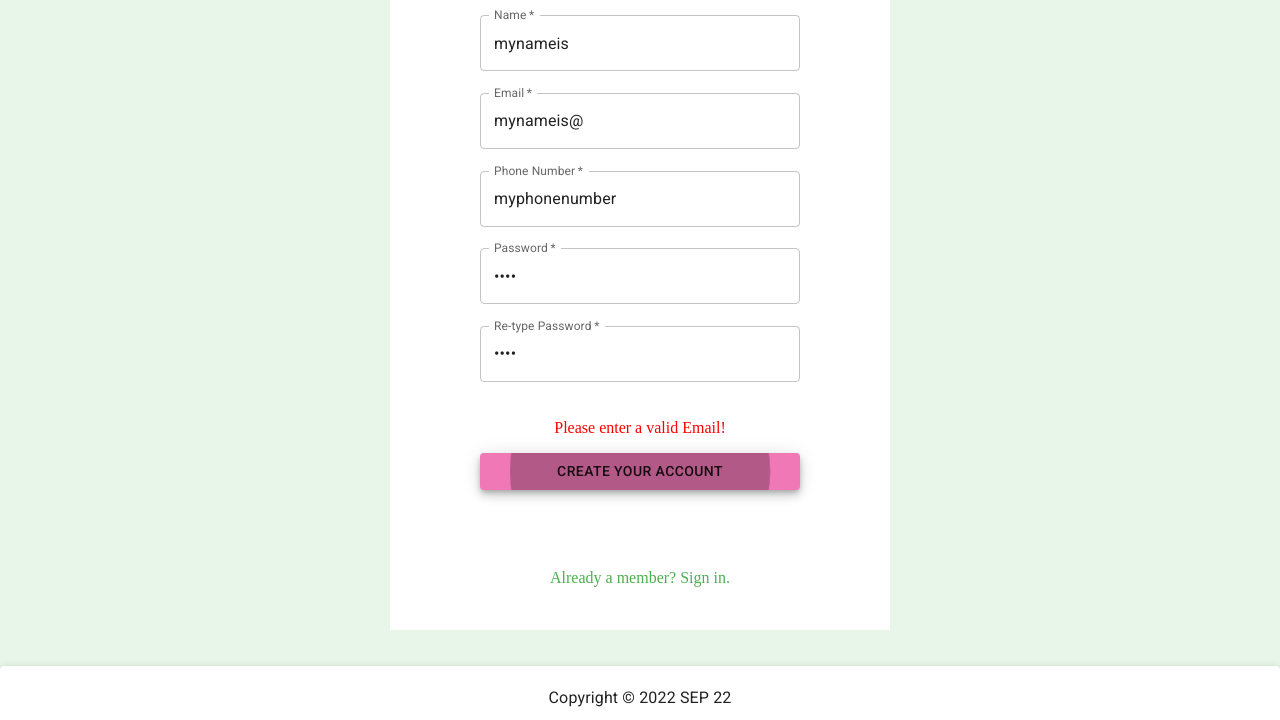
Signup Page works correctly › Check with Invalid phone number
(page scrolled)
Type "gmail.com" into the field with id "outlined-basic" at (640, 121), box left=480, top=93, right=800, bottom=149
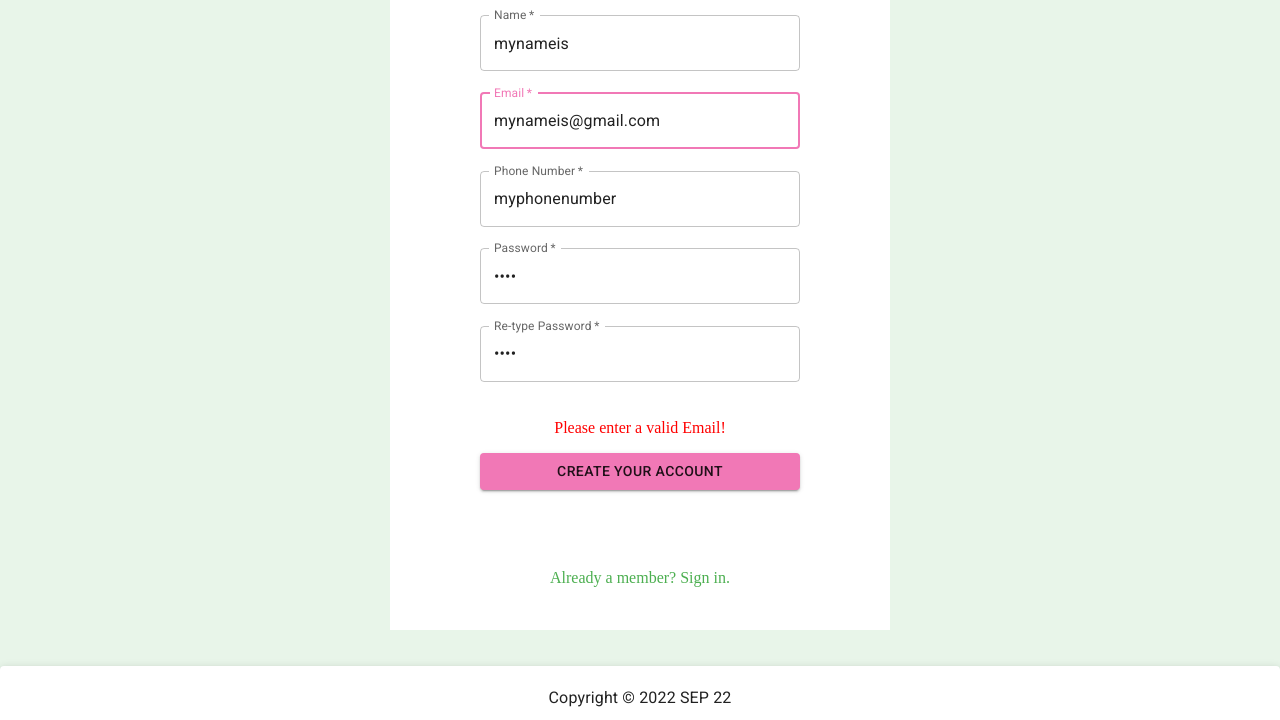
Click the button "CREATE YOUR ACCOUNT" at (640, 472), box left=480, top=453, right=800, bottom=490
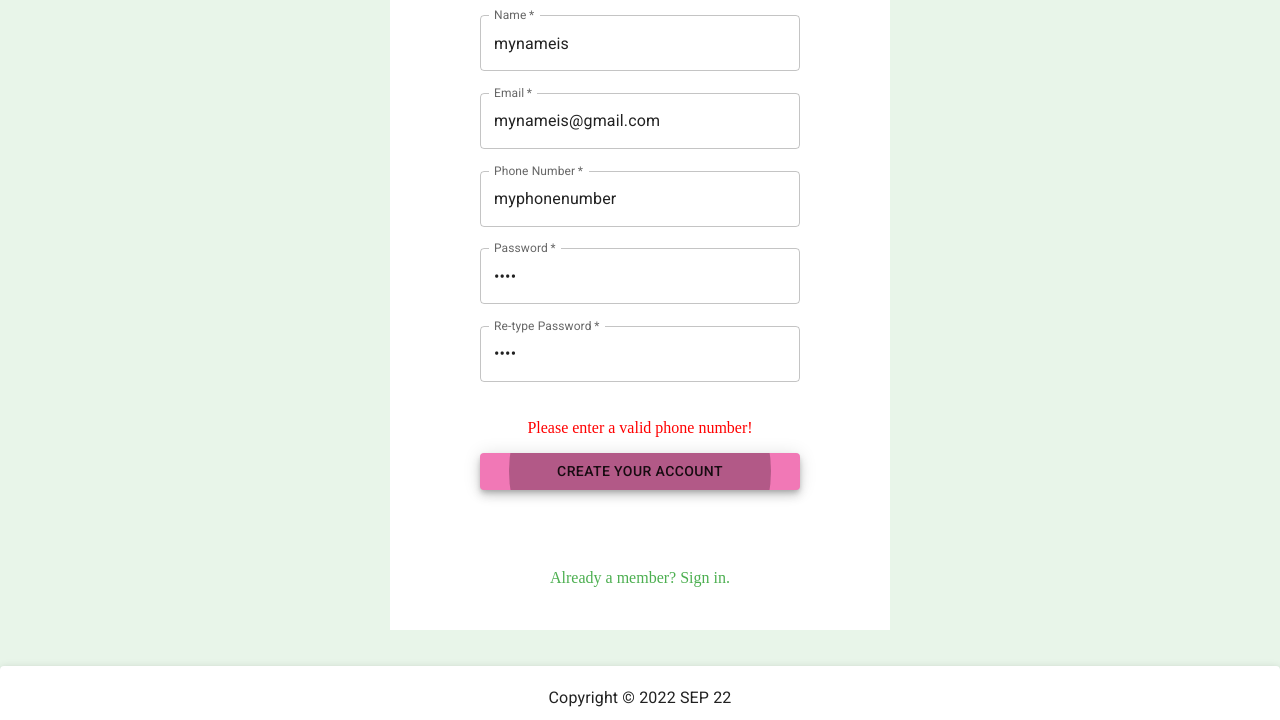
Expected: the text "Please enter a valid phone number!" is shown, left=527, top=419, right=753, bottom=437
